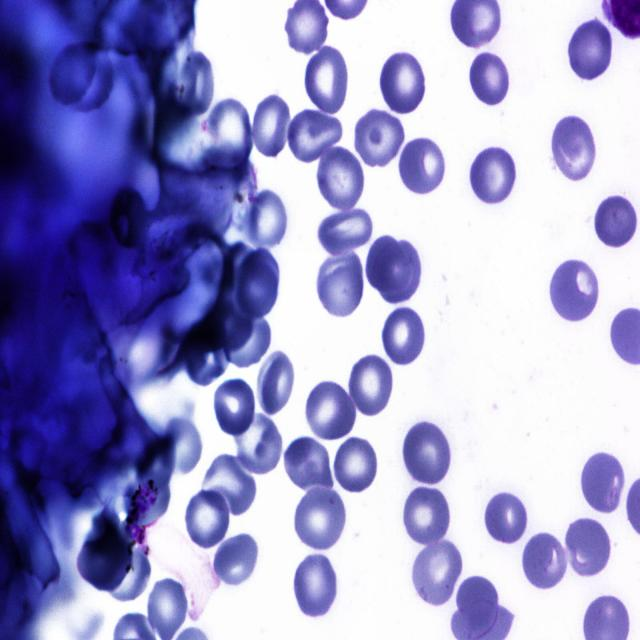red blood cell: (76, 525, 133, 591), (547, 256, 600, 325), (293, 486, 349, 551), (206, 95, 253, 172), (230, 246, 280, 318), (376, 48, 428, 116), (315, 251, 366, 320), (231, 408, 285, 473), (314, 145, 367, 211), (202, 454, 259, 515), (550, 114, 597, 187), (412, 541, 463, 606), (286, 106, 344, 163), (466, 144, 518, 207), (238, 187, 290, 250), (401, 421, 452, 485), (303, 46, 350, 115), (354, 108, 406, 170), (182, 322, 234, 384), (292, 551, 339, 619), (168, 50, 214, 118), (306, 380, 357, 440), (403, 484, 452, 546), (566, 18, 613, 82), (380, 303, 427, 367), (454, 574, 501, 637), (376, 240, 422, 304), (184, 488, 231, 550), (580, 452, 624, 517), (284, 437, 335, 493), (347, 355, 393, 417), (225, 306, 270, 369), (565, 517, 612, 577), (316, 209, 374, 257), (399, 137, 446, 196), (522, 531, 568, 591), (212, 533, 261, 588), (252, 91, 290, 161), (366, 233, 409, 294), (593, 192, 638, 250), (334, 436, 378, 494), (256, 350, 294, 416), (213, 377, 256, 434), (483, 491, 528, 545), (470, 50, 512, 107)
